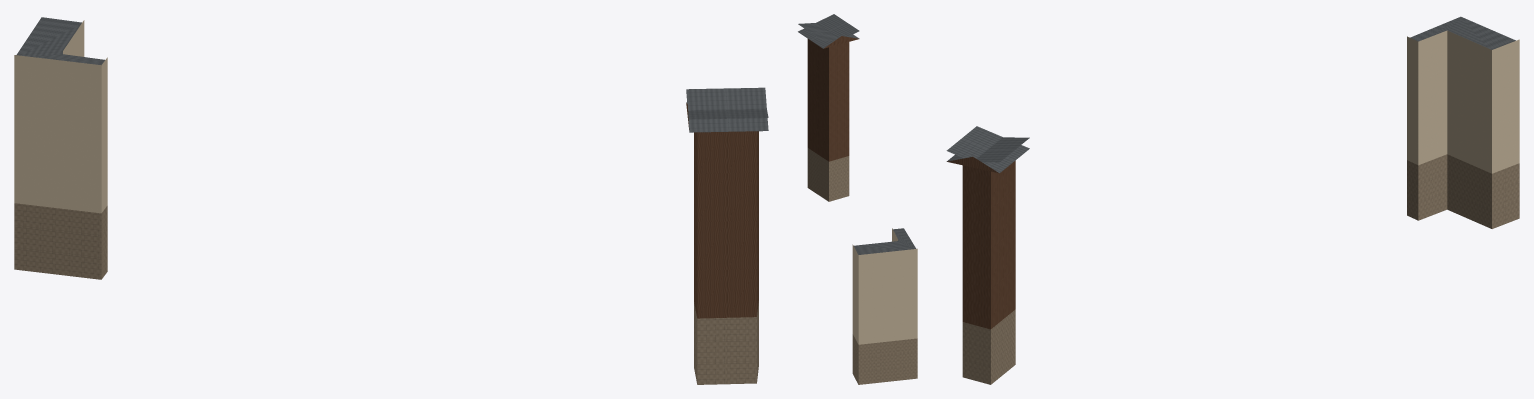
File: bld_c-2_-4_564.gltf
3 renders of one model, left to right at view 1: azimuth 30°, elevation 25°; view 2: azimuth 150°, elevation 25°; view 3: azimuth 270°, elevation 25°, orthographic. The views are drawn at different scales.
Parts seen in each view (by area): view 1: bld_c-2_-4_564; view 2: bld_c-2_-4_564; view 3: bld_c-2_-4_564.
Part boxes in pixels (box(x1,y1,x2,y2)): bld_c-2_-4_564: box(14, 17, 768, 384); bld_c-2_-4_564: box(798, 14, 917, 384); bld_c-2_-4_564: box(946, 16, 1519, 384).
Size of the model in its own units: 38.14 by 20.9 by 47.78.
Materials: 6 (6 with a texture image).
